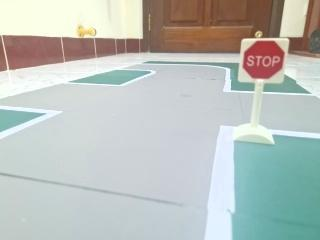stop: (239, 31, 289, 92)
